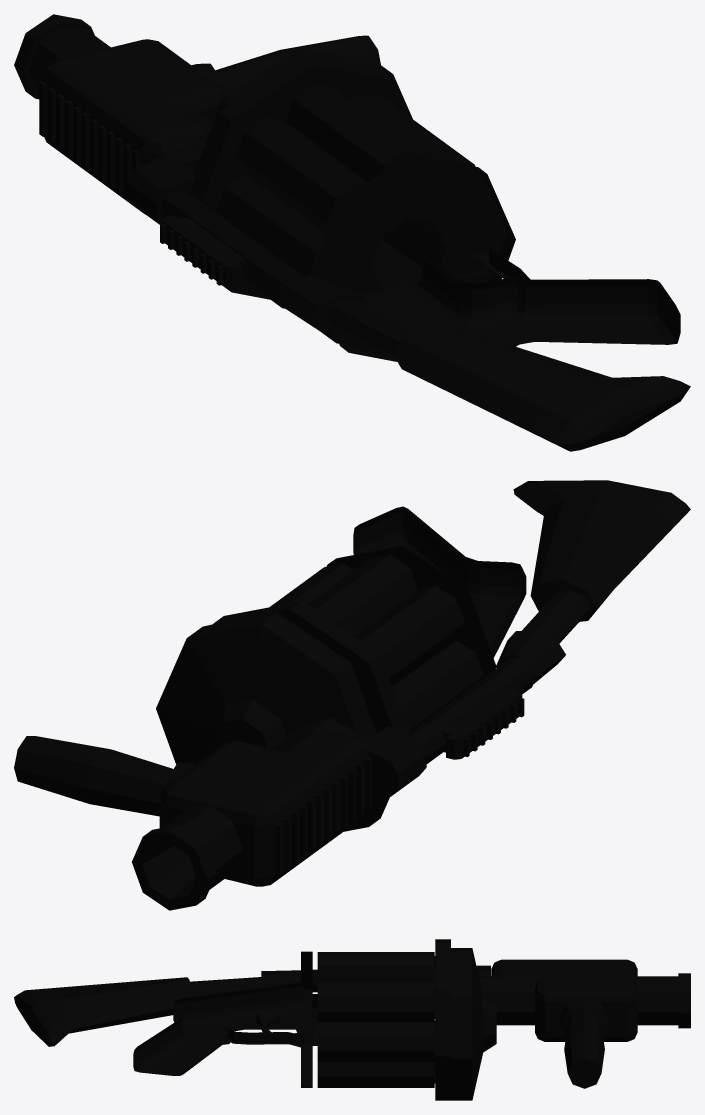
The model's file is Grenade Launcher.glb.
The picture shows the model from 3 angles, top to bottom: view 1: azimuth 30°, elevation 25°; view 2: azimuth 150°, elevation 25°; view 3: azimuth 270°, elevation 25°; orthographic projection. The views are drawn at different scales.
Parts seen in each view (by area): view 1: Grenade_launcher; view 2: Grenade_launcher; view 3: Grenade_launcher.
Part boxes in pixels (x1,y1,x2,y2): Grenade_launcher: [14, 14, 690, 451]; Grenade_launcher: [14, 480, 690, 910]; Grenade_launcher: [14, 939, 690, 1100].
Size of the model in its own units: 0.46 by 0.3186 by 1.26.
Materials: 1 (1 with a texture image).
